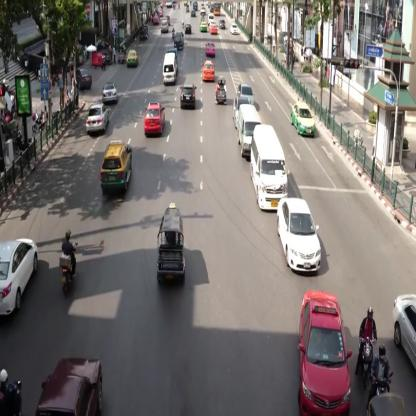car: (298, 288, 354, 415), (38, 356, 103, 415), (278, 197, 323, 272), (0, 237, 38, 316), (392, 292, 416, 375), (102, 142, 132, 196), (290, 102, 316, 136), (144, 101, 166, 135), (85, 103, 109, 134), (181, 80, 196, 110), (237, 84, 256, 106), (202, 59, 215, 84), (102, 82, 118, 102), (126, 48, 138, 66), (206, 42, 216, 58), (160, 19, 170, 31), (230, 23, 239, 35), (200, 21, 208, 33), (185, 23, 192, 34)
motocycle: (359, 305, 376, 384), (370, 343, 394, 395), (60, 229, 77, 295), (1, 364, 21, 415), (172, 26, 176, 41)
person: (101, 51, 108, 72), (112, 45, 117, 62)
van: (252, 124, 290, 212), (236, 104, 262, 159), (164, 53, 178, 84)
